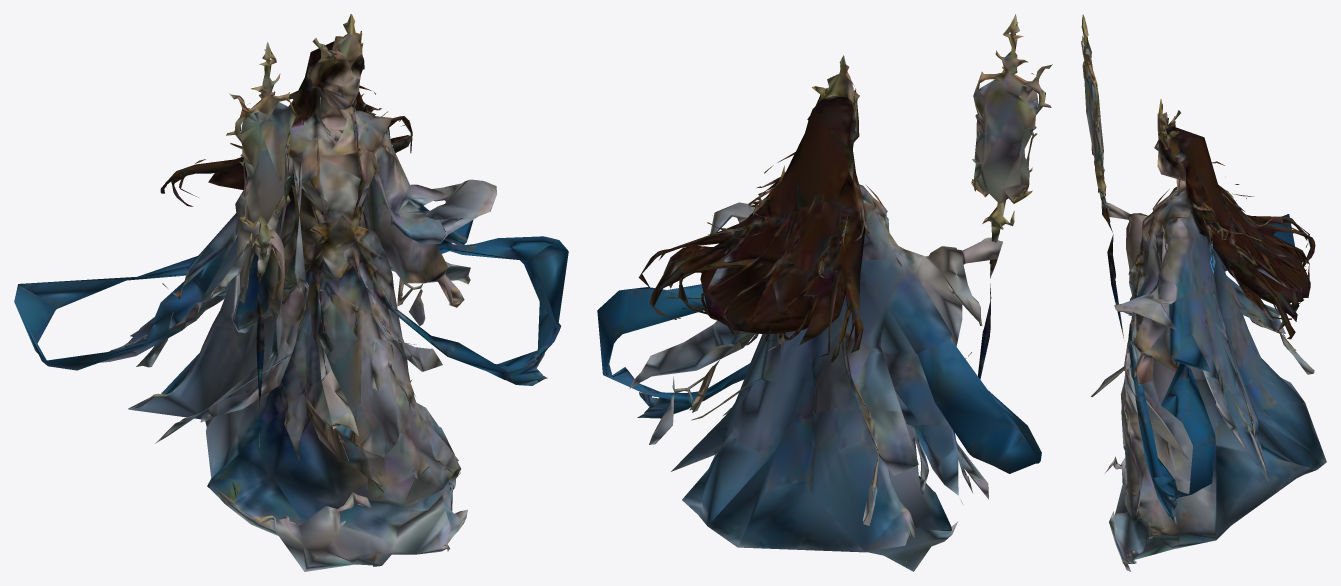
File: npc_god_mazu.glb
3 views of the same model, side by side, from view 1: azimuth 30°, elevation 25°; view 2: azimuth 150°, elevation 25°; view 3: azimuth 270°, elevation 25° (orthographic). The views are drawn at different scales.
Parts seen in each view (by area): view 1: tripo_node_0925472e-400b-4527-ba0e-6a0d81dd3006; view 2: tripo_node_0925472e-400b-4527-ba0e-6a0d81dd3006; view 3: tripo_node_0925472e-400b-4527-ba0e-6a0d81dd3006.
Boxes of the visible parts, x1,y1,x2,y2 form: tripo_node_0925472e-400b-4527-ba0e-6a0d81dd3006: (14,14,568,571); tripo_node_0925472e-400b-4527-ba0e-6a0d81dd3006: (597,14,1052,571); tripo_node_0925472e-400b-4527-ba0e-6a0d81dd3006: (1081,14,1326,571).
Size of the model in its own units: 0.8813 by 0.9804 by 0.4608.
1 material, 1 textured.
